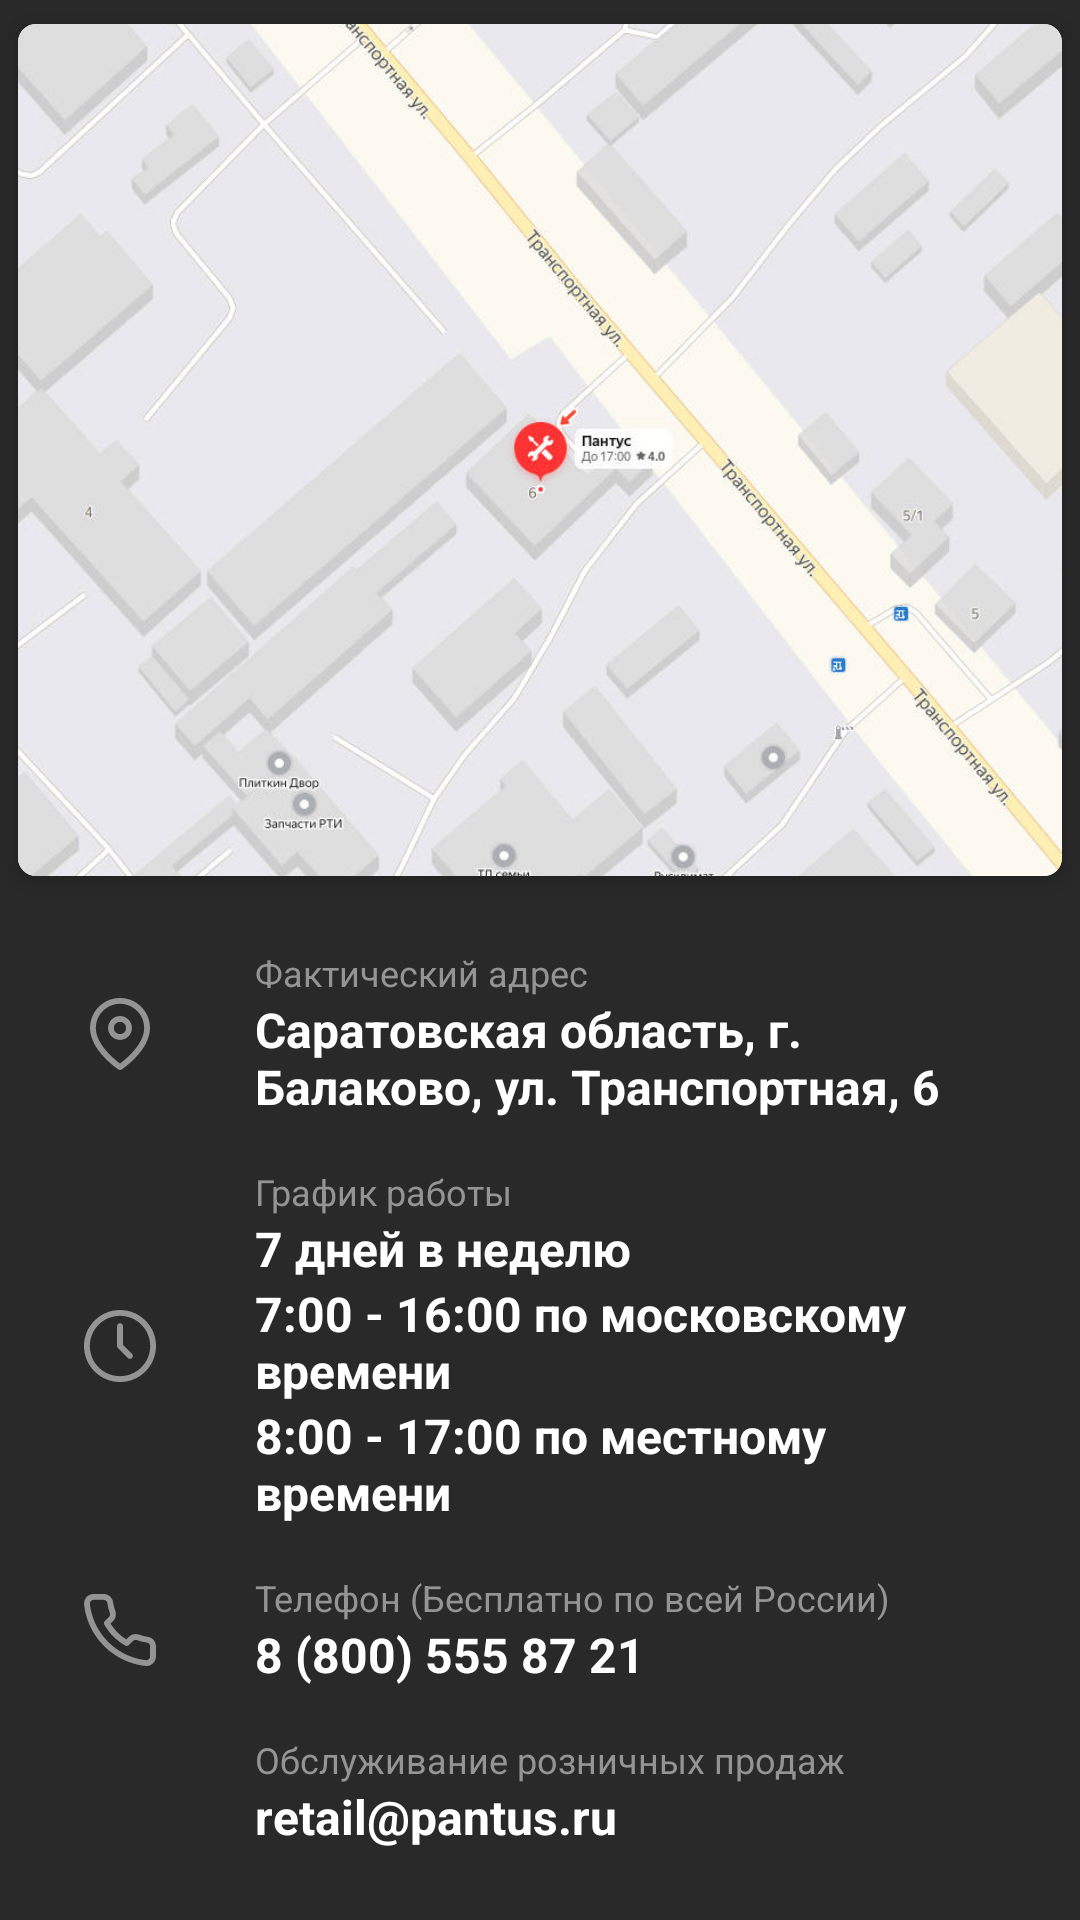

Where icons sit on this 1080px x 1920px app screen, as (x1, y1, x2, y2):
clock: (84, 1310, 156, 1382)
locate: (90, 998, 150, 1070)
phone: (84, 1594, 156, 1666)
